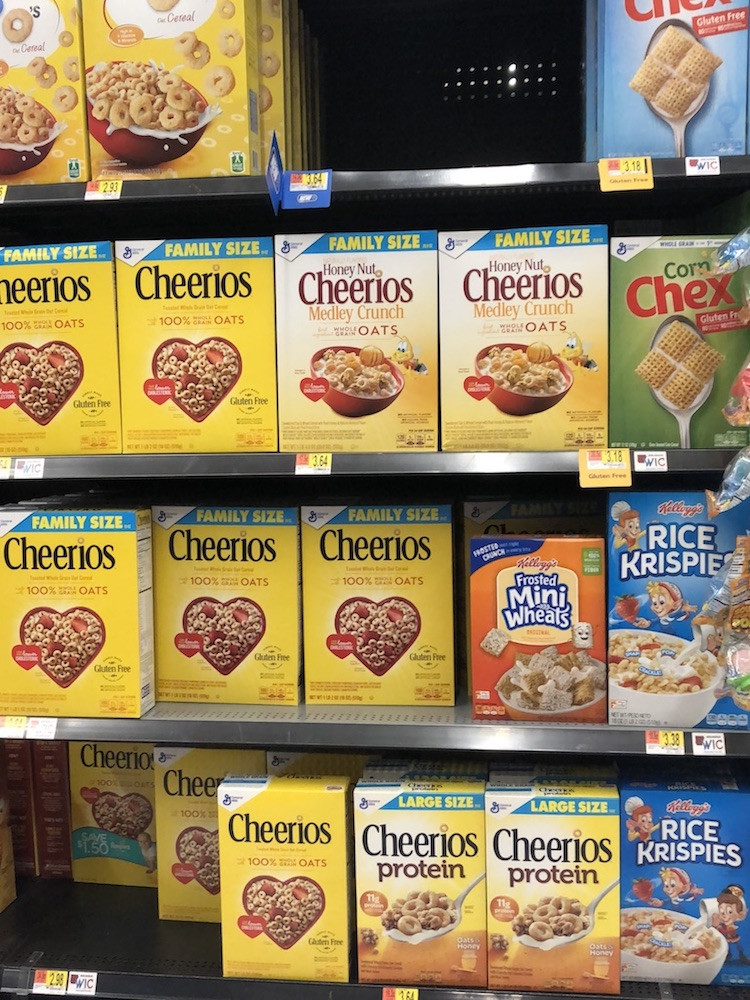Frosted Mini Original -9295869: (460, 535, 604, 726)
